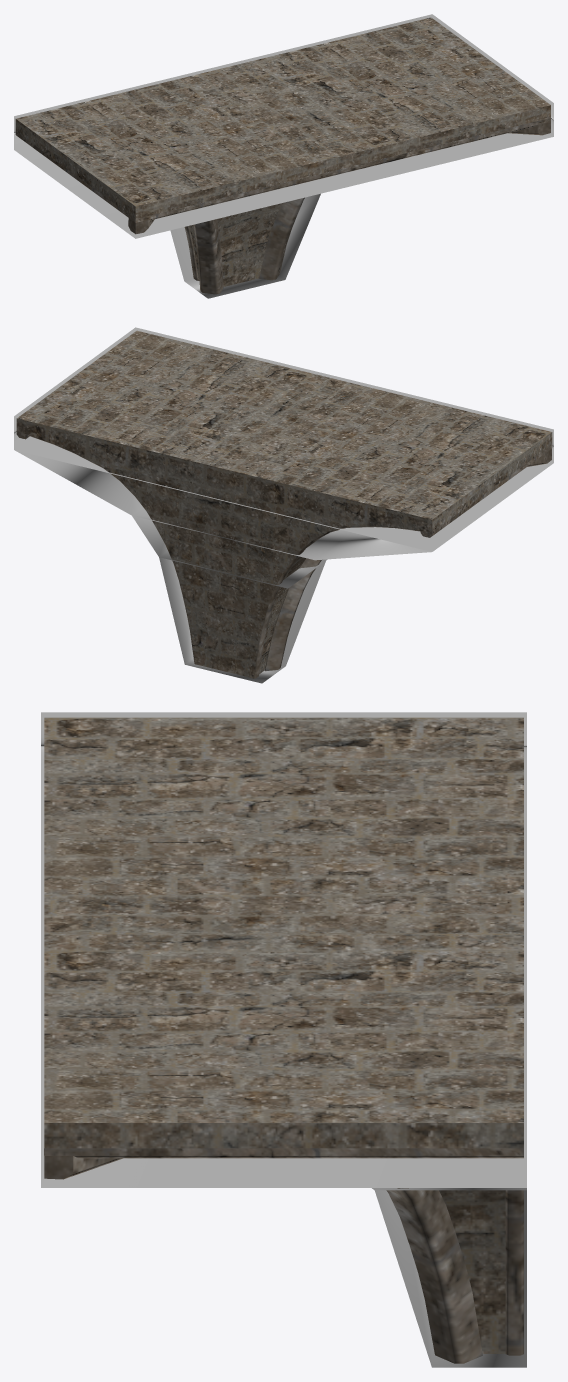
Rendered from SM_Ceiling_01a_Half.gltf.
3 views of the same model, one above another, from view 1: azimuth 30°, elevation 25°; view 2: azimuth 150°, elevation 25°; view 3: azimuth 270°, elevation 25° (orthographic). The views are drawn at different scales.
Visible parts, largest first — view 1: SM_Ceiling_01a_Half, SM_Ceiling_01a_Half_ConvexHulls; view 2: SM_Ceiling_01a_Half, SM_Ceiling_01a_Half_ConvexHulls; view 3: SM_Ceiling_01a_Half, SM_Ceiling_01a_Half_ConvexHulls.
Part boxes in pixels (box(x1,y1,x2,y2)): SM_Ceiling_01a_Half: box(15, 17, 550, 294); SM_Ceiling_01a_Half_ConvexHulls: box(14, 14, 553, 298); SM_Ceiling_01a_Half: box(16, 330, 552, 678); SM_Ceiling_01a_Half_ConvexHulls: box(14, 327, 553, 683); SM_Ceiling_01a_Half: box(44, 717, 523, 1363); SM_Ceiling_01a_Half_ConvexHulls: box(41, 712, 526, 1367).
Size of the model in its own units: 14.1 by 6.66 by 7.1.
3 materials, 2 textured.
